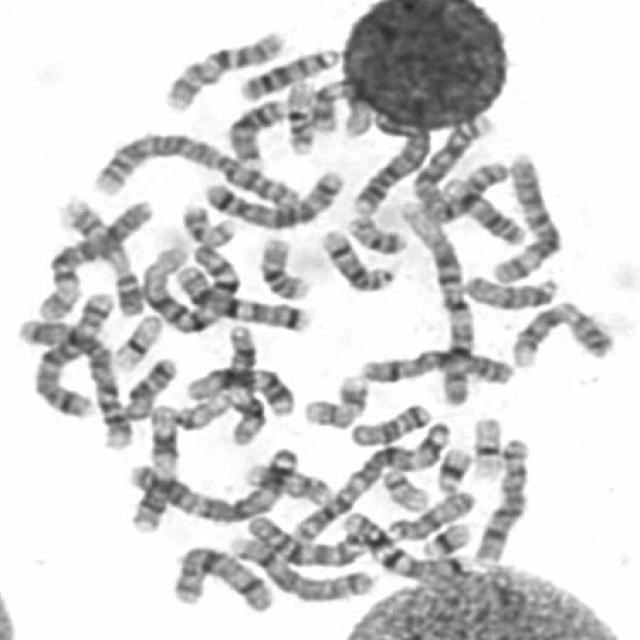A1: (393, 195, 474, 408), (134, 234, 242, 334)
A2: (87, 125, 305, 208), (406, 106, 498, 225)
A3: (285, 412, 454, 545), (121, 439, 302, 527)
B4: (11, 310, 138, 452), (345, 113, 434, 217)
B5: (26, 287, 116, 418), (198, 162, 346, 230)
C10: (156, 23, 287, 113), (237, 508, 375, 568)
C11: (122, 399, 182, 535), (218, 319, 266, 446)
C12: (179, 359, 298, 417), (300, 75, 374, 146)
C6: (37, 192, 155, 322), (484, 148, 563, 286)
C7: (168, 256, 314, 334), (337, 506, 472, 582)
C8: (222, 528, 378, 603), (467, 431, 533, 566)
C9: (47, 194, 150, 319), (502, 294, 618, 369)
D13: (231, 41, 342, 101), (220, 91, 289, 169)
D14: (436, 170, 528, 247), (314, 222, 397, 294)
D15: (379, 482, 477, 541), (457, 267, 562, 310)
E16: (251, 230, 312, 302), (278, 72, 319, 155)
E17: (237, 455, 335, 507), (296, 368, 370, 430)
E18: (342, 396, 433, 448), (115, 350, 179, 421)
F19: (106, 306, 164, 372), (464, 409, 507, 482)
F20: (173, 196, 240, 248), (339, 208, 410, 255)
G21: (414, 516, 472, 559), (429, 440, 474, 495)
G22: (374, 460, 432, 513), (166, 387, 233, 431)
X: (165, 538, 276, 616), (350, 341, 516, 387)
